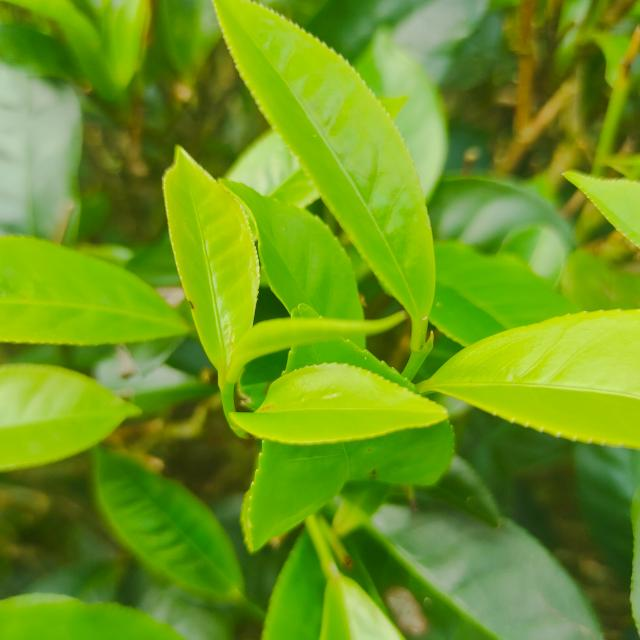unopened_leaf: (220, 300, 416, 391)
